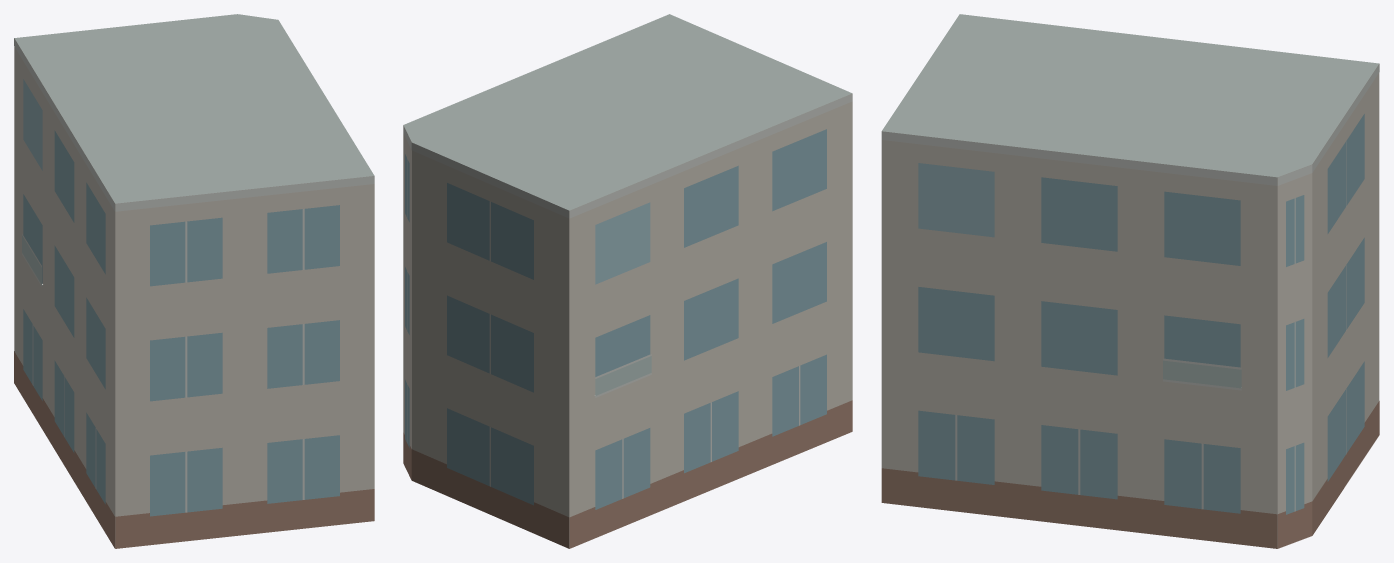
File: survey-upis-32705998.glb
The picture shows the model from 3 angles, left to right: view 1: azimuth 30°, elevation 25°; view 2: azimuth 150°, elevation 25°; view 3: azimuth 270°, elevation 25°; orthographic projection. The views are drawn at different scales.
Visible parts, largest first — view 1: survey-upis-32705998.tmp; view 2: survey-upis-32705998.tmp; view 3: survey-upis-32705998.tmp.
Part boxes in pixels (x1,y1,x2,y2): survey-upis-32705998.tmp: [14, 14, 374, 548]; survey-upis-32705998.tmp: [403, 14, 852, 548]; survey-upis-32705998.tmp: [881, 14, 1379, 548].
Bounding box in the file's own units: 9.81 × 10.4 × 12.64.
